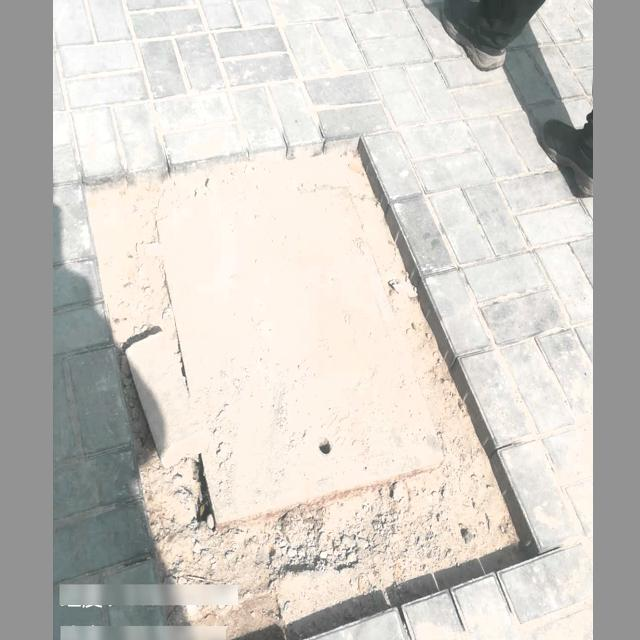circle: (83, 157, 533, 607)
